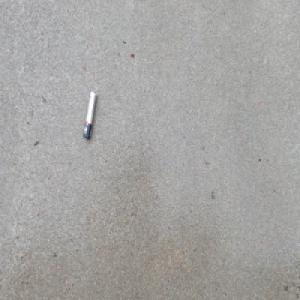Battery: (82, 88, 96, 140)
